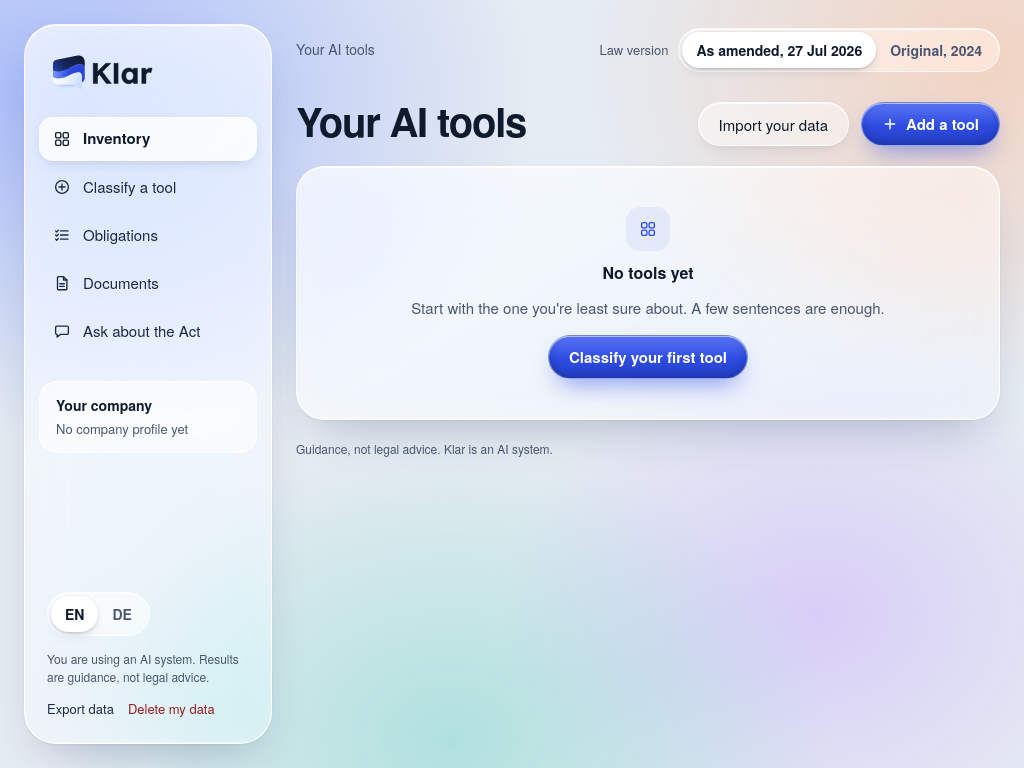
AppFrame sidebar › moves between screens from the sidebar
Check: the heading "Your AI tools" is shown, box left=296, top=96, right=526, bottom=146
Click the link "Obligations" at (106, 235), box left=53, top=224, right=158, bottom=245
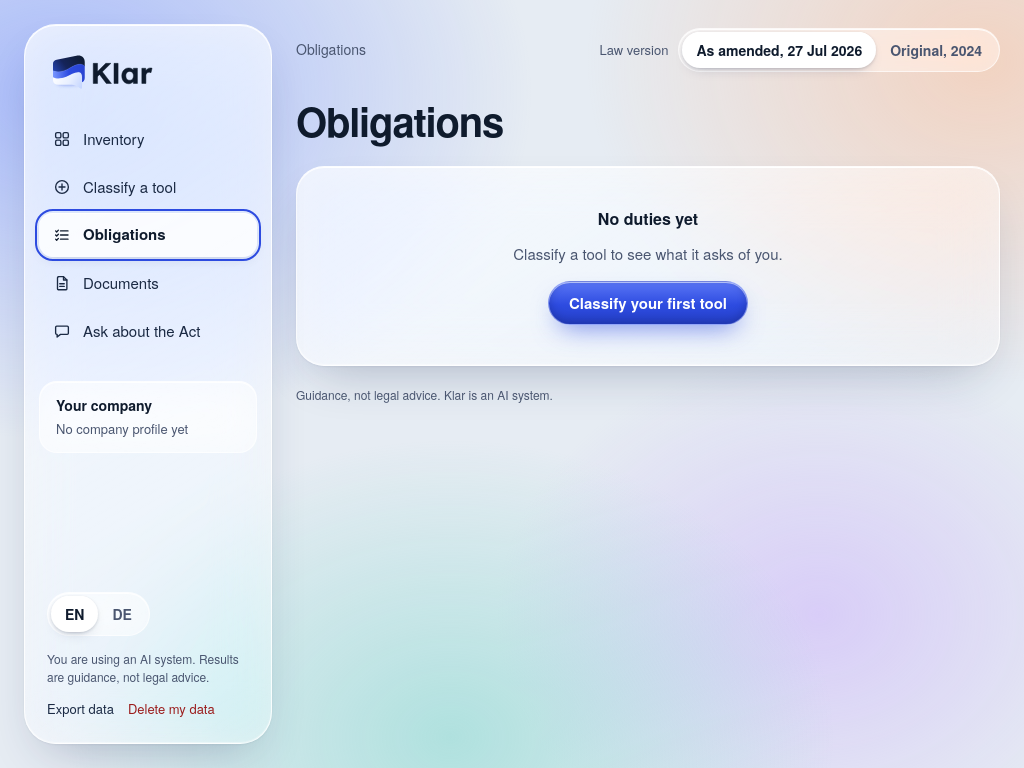
Check: the heading "Obligations" is shown, box left=296, top=96, right=503, bottom=146
